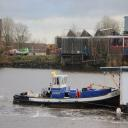tugboat: (13, 71, 122, 116)
